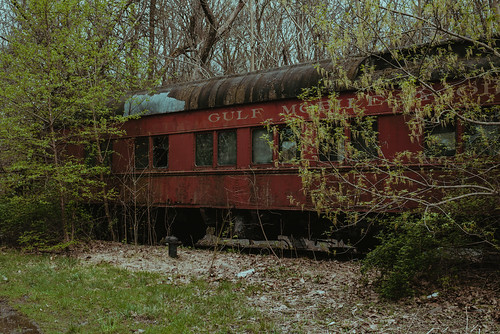train: (97, 45, 491, 241)
tree: (291, 1, 499, 256), (1, 1, 135, 243)
